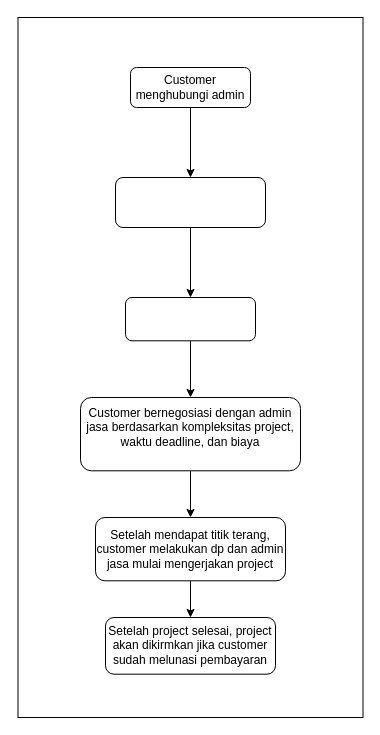
Some shapes in this 380 by 735 pixel diagram are drawn without their labels. The box of each missing label's shape, as (x1, y1, x2, y2) in pixels:
Admin akan menghubungi admin jasa yang berkaitan: (114, 176, 266, 228)
Admin jasa akan menghubungi customer: (124, 296, 256, 341)
